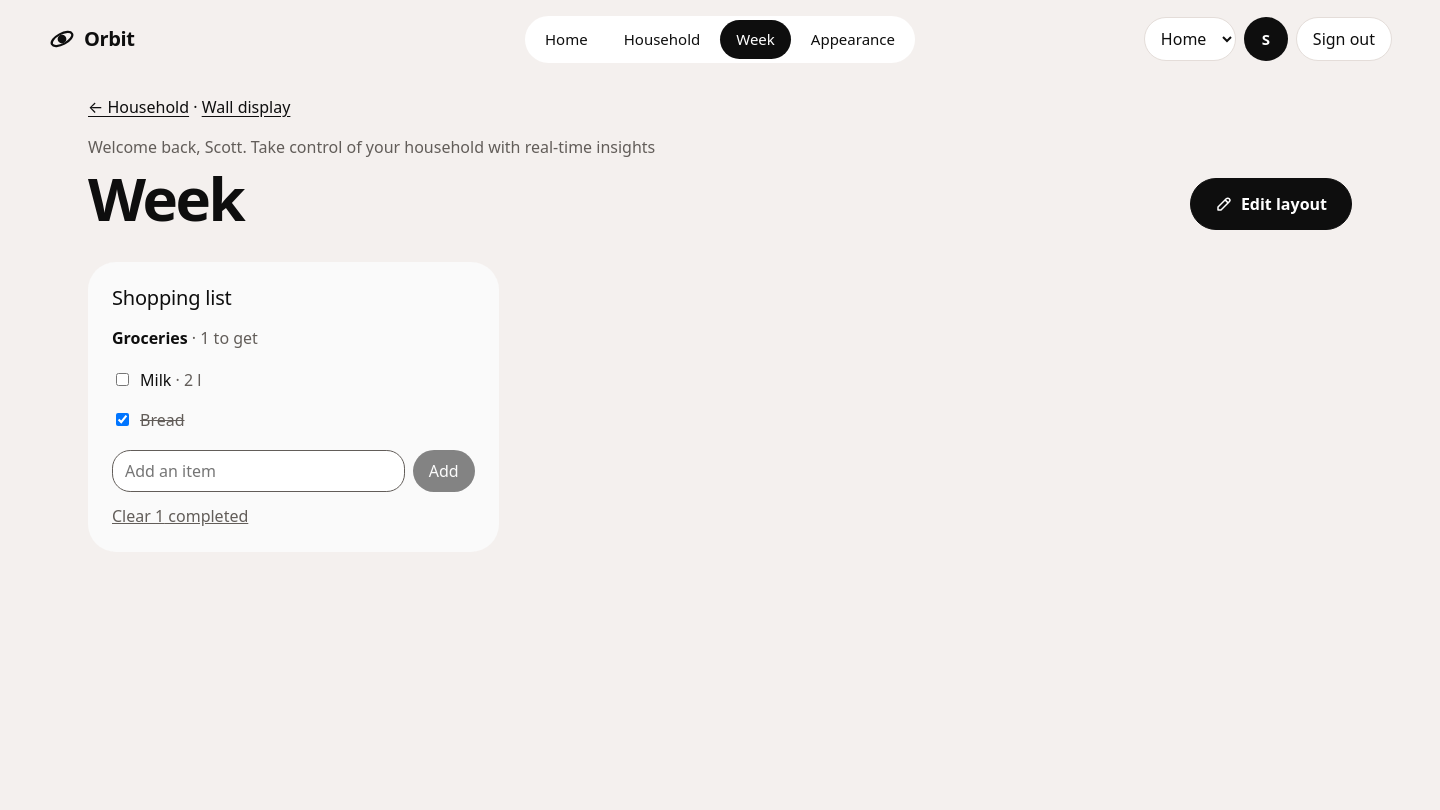
it: shopping list widget › puts the checkbox back and says why when the server refuses
This screenshot has width=1440, height=810.
Click the checkbox labelled "Milk · 2 l" at (122, 380), box [116,373,129,386]
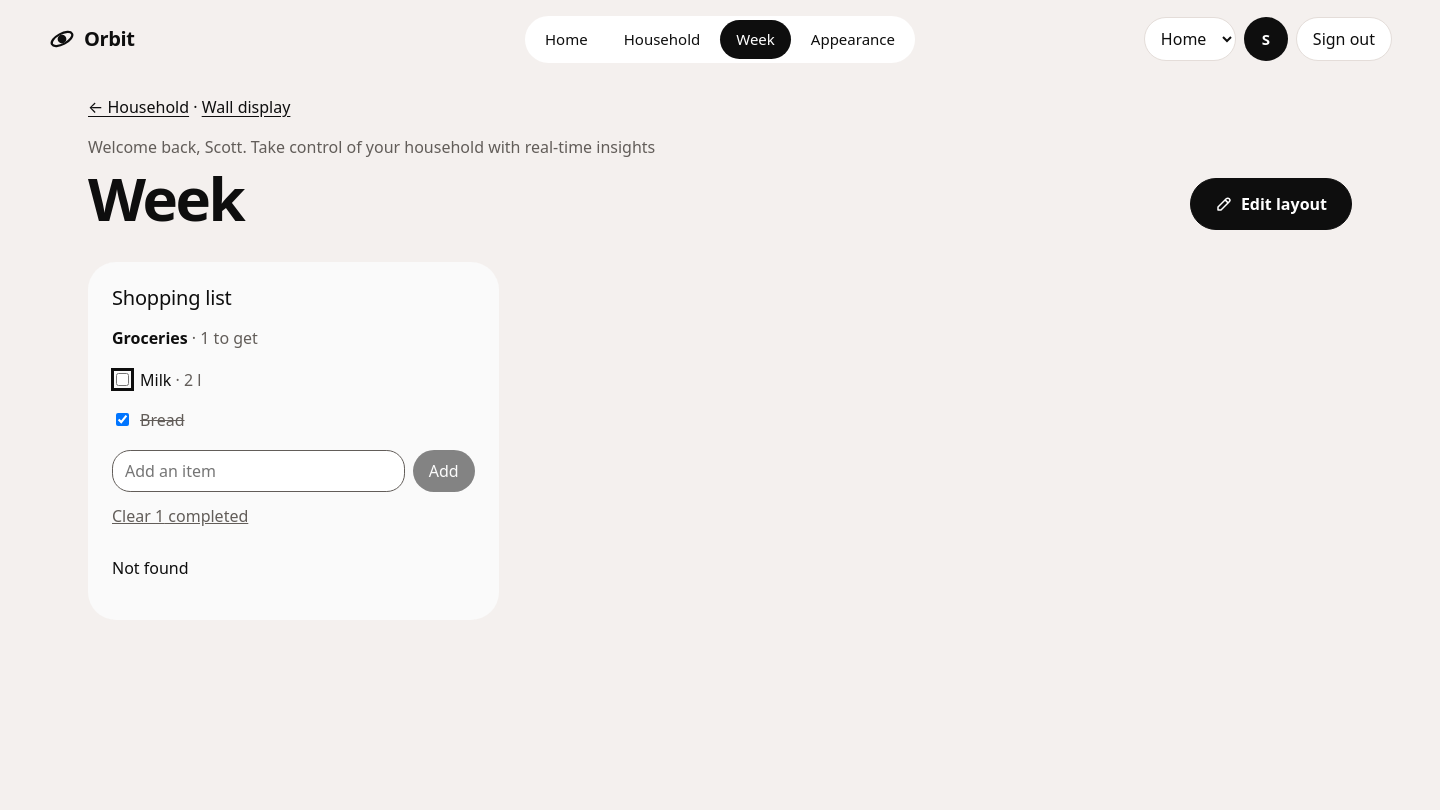
expect the message "Not found" is shown: met, box [112,556,189,578]
